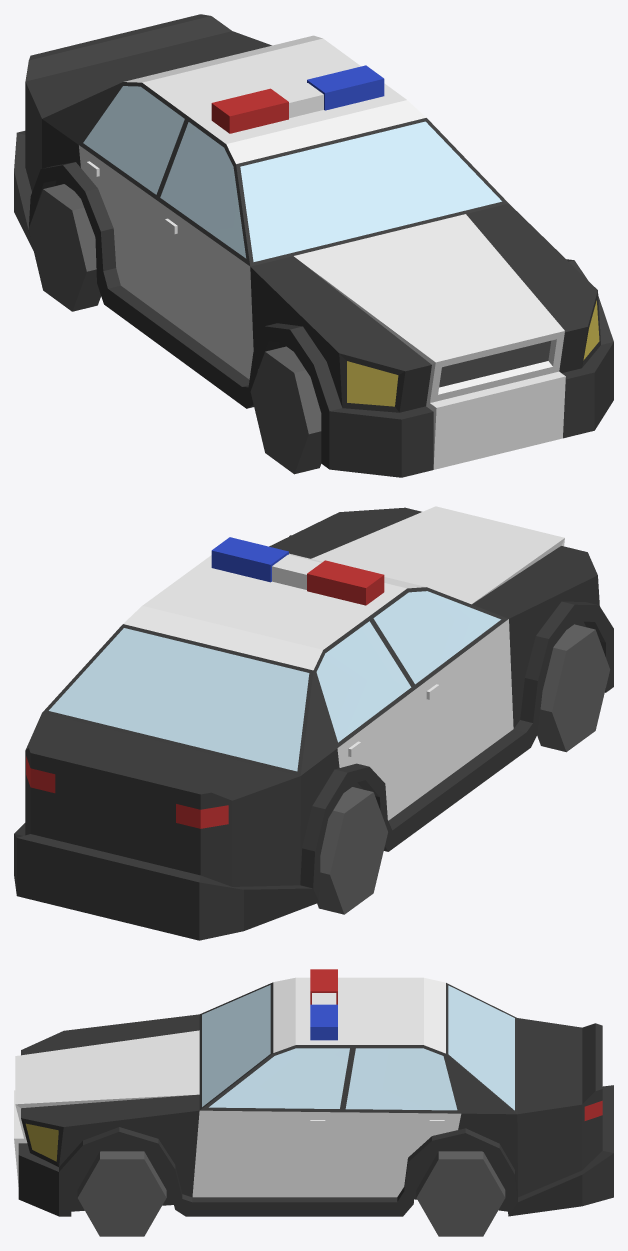
The model's file is Police.fbx.
3 views of the same model, one above another, from view 1: azimuth 30°, elevation 25°; view 2: azimuth 150°, elevation 25°; view 3: azimuth 270°, elevation 25° (orthographic). The views are drawn at different scales.
Parts seen in each view (by area): view 1: Police; view 2: Police; view 3: Police.
Boxes of the visible parts, x1,y1,x2,y2 form: Police: (14,14,613,477); Police: (14,506,613,940); Police: (14,969,613,1236).
Size of the model in its own units: 3.21 by 2.43 by 7.25.
Materials: 1 (1 with a texture image).
